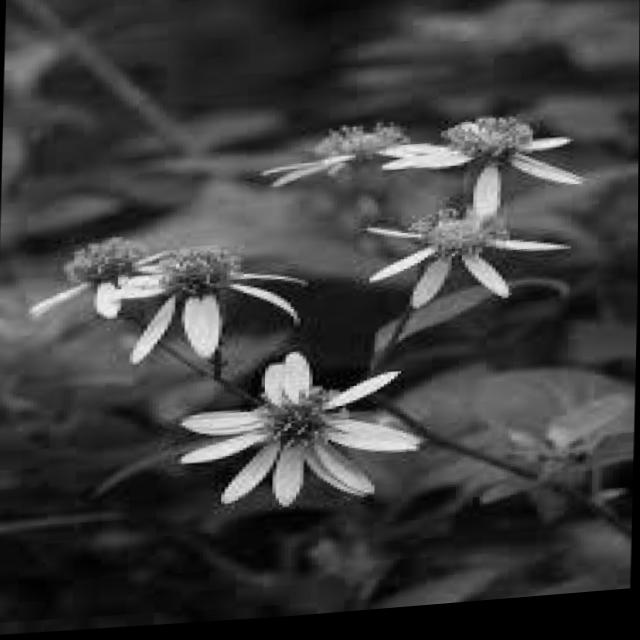Flower: (163, 345, 419, 525), (107, 229, 328, 378), (368, 193, 572, 323), (376, 112, 589, 222), (20, 222, 189, 331), (240, 111, 457, 193)
